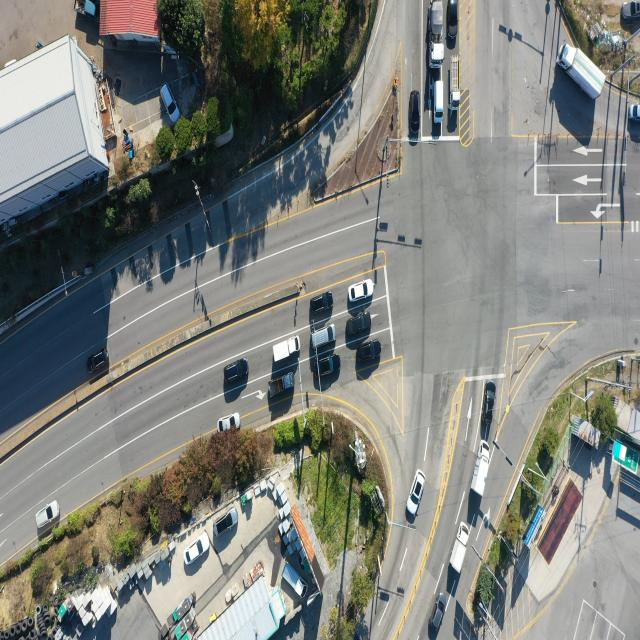car: (183, 532, 210, 566), (408, 469, 427, 516), (160, 83, 180, 123), (308, 324, 336, 349), (483, 378, 498, 424), (316, 354, 344, 378), (36, 501, 59, 530), (224, 357, 249, 383), (214, 510, 237, 538), (348, 279, 374, 303), (346, 316, 372, 340), (356, 340, 382, 364), (431, 591, 446, 630), (408, 91, 421, 135), (310, 293, 334, 316), (432, 80, 444, 125), (88, 349, 110, 373), (217, 413, 240, 435), (449, 0, 458, 41), (621, 0, 640, 19), (628, 102, 640, 123)
medium_truck: (557, 43, 600, 102), (430, 0, 445, 64)
small_truck: (471, 440, 493, 500), (448, 521, 468, 576), (281, 562, 306, 598), (273, 337, 301, 366), (270, 372, 296, 398), (451, 56, 462, 106), (72, 0, 96, 20)
